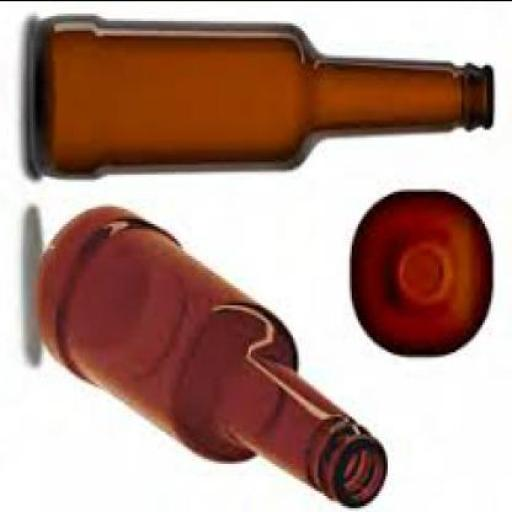glass: (36, 203, 390, 505), (32, 10, 495, 176), (352, 186, 495, 356)
